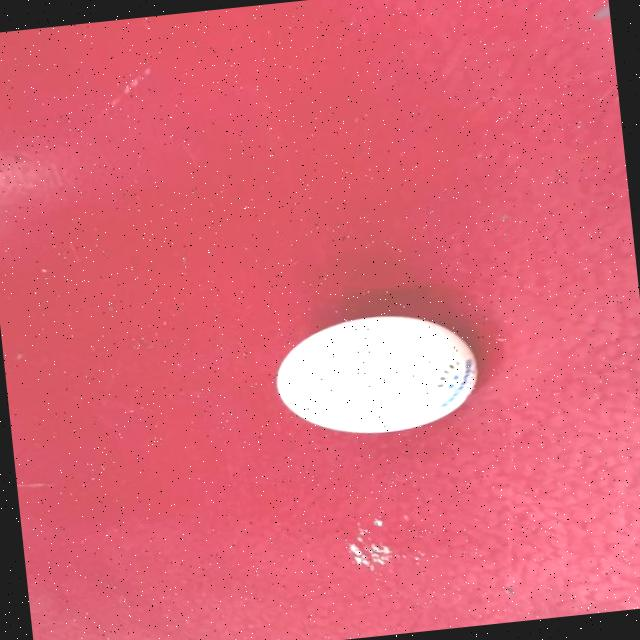ping-pong-ball: (265, 303, 489, 446)
